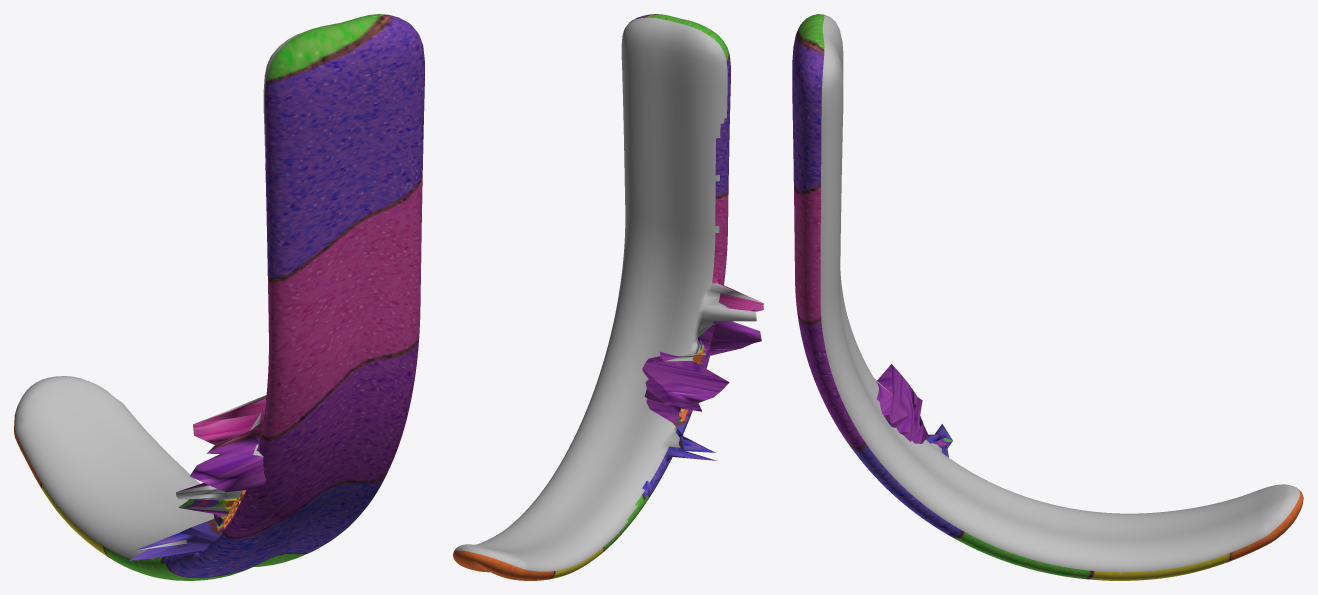
Rendered from PlayerBreakedTongue2.fbx.
The picture shows the model from 3 angles, left to right: view 1: azimuth 30°, elevation 25°; view 2: azimuth 150°, elevation 25°; view 3: azimuth 270°, elevation 25°; orthographic projection. The views are drawn at different scales.
Parts seen in each view (by area): view 1: polySurface1; view 2: polySurface1; view 3: polySurface1.
Boxes of the visible parts, <box> form: polySurface1: <box>14,14,424,580</box>; polySurface1: <box>453,14,763,580</box>; polySurface1: <box>792,14,1303,580</box>.
Bounding box in the file's own units: 103 × 296 × 256.
